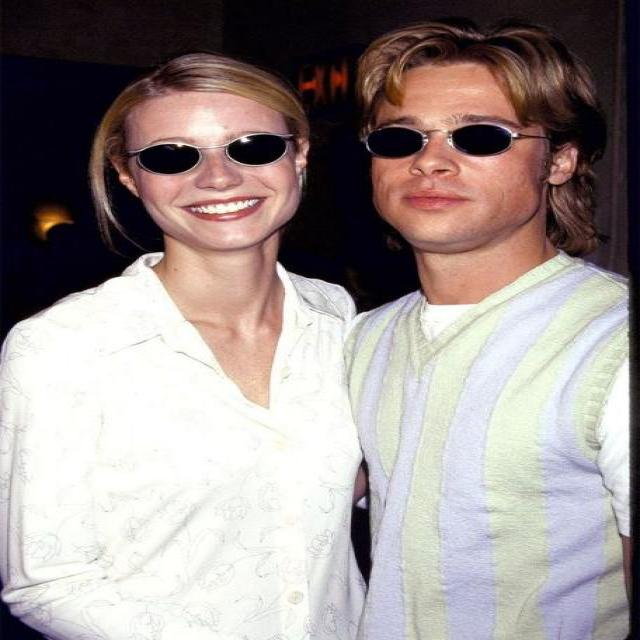glasses: (122, 132, 296, 178), (365, 124, 530, 160)
